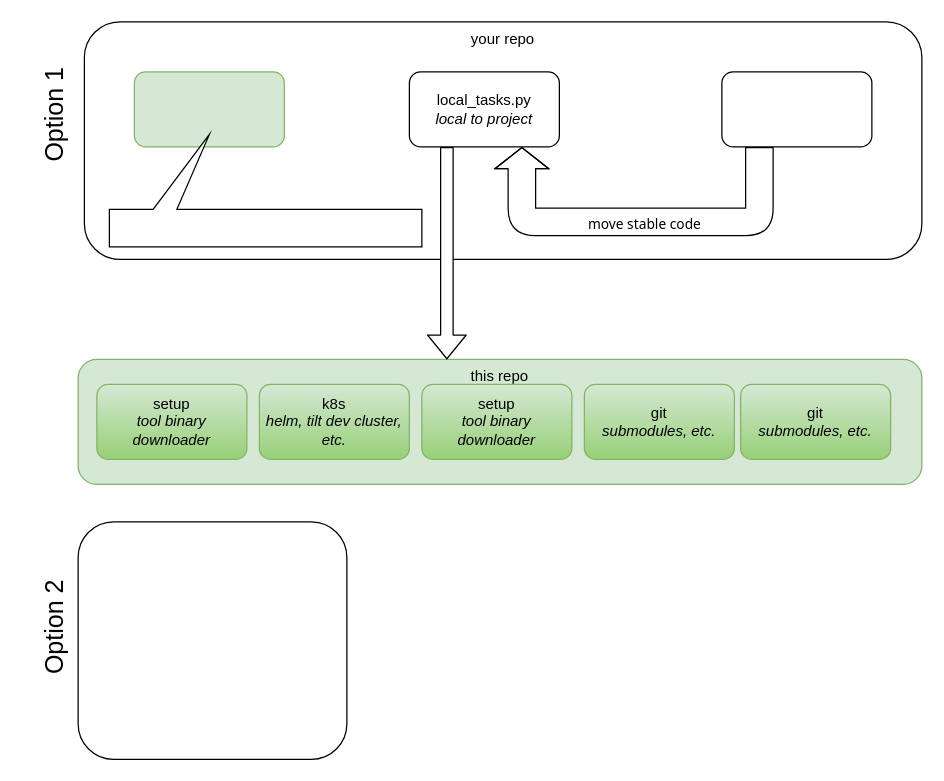
Some shapes in this 944 by 781 pixel diagram are drawn without their labels. The shapes that lost their labels are listed below. From the top down, each one's centre as x and y in pixels, then its label:
the point at 208,109: tasks generic blocks
the point at 796,109: _local_tasks.py local to dev env
the point at 265,190: git submodule add {REPO URL} tasks
the point at 212,640: ~/tasks
